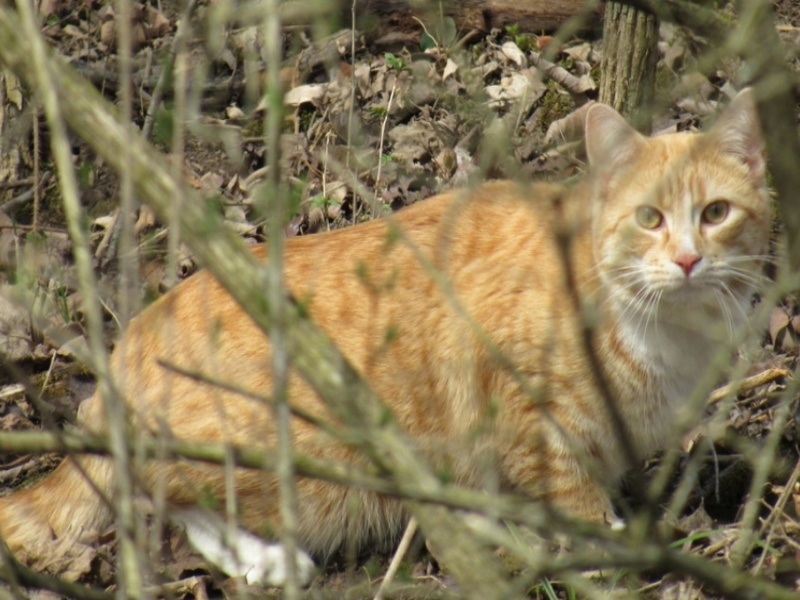cat: (14, 86, 774, 582)
